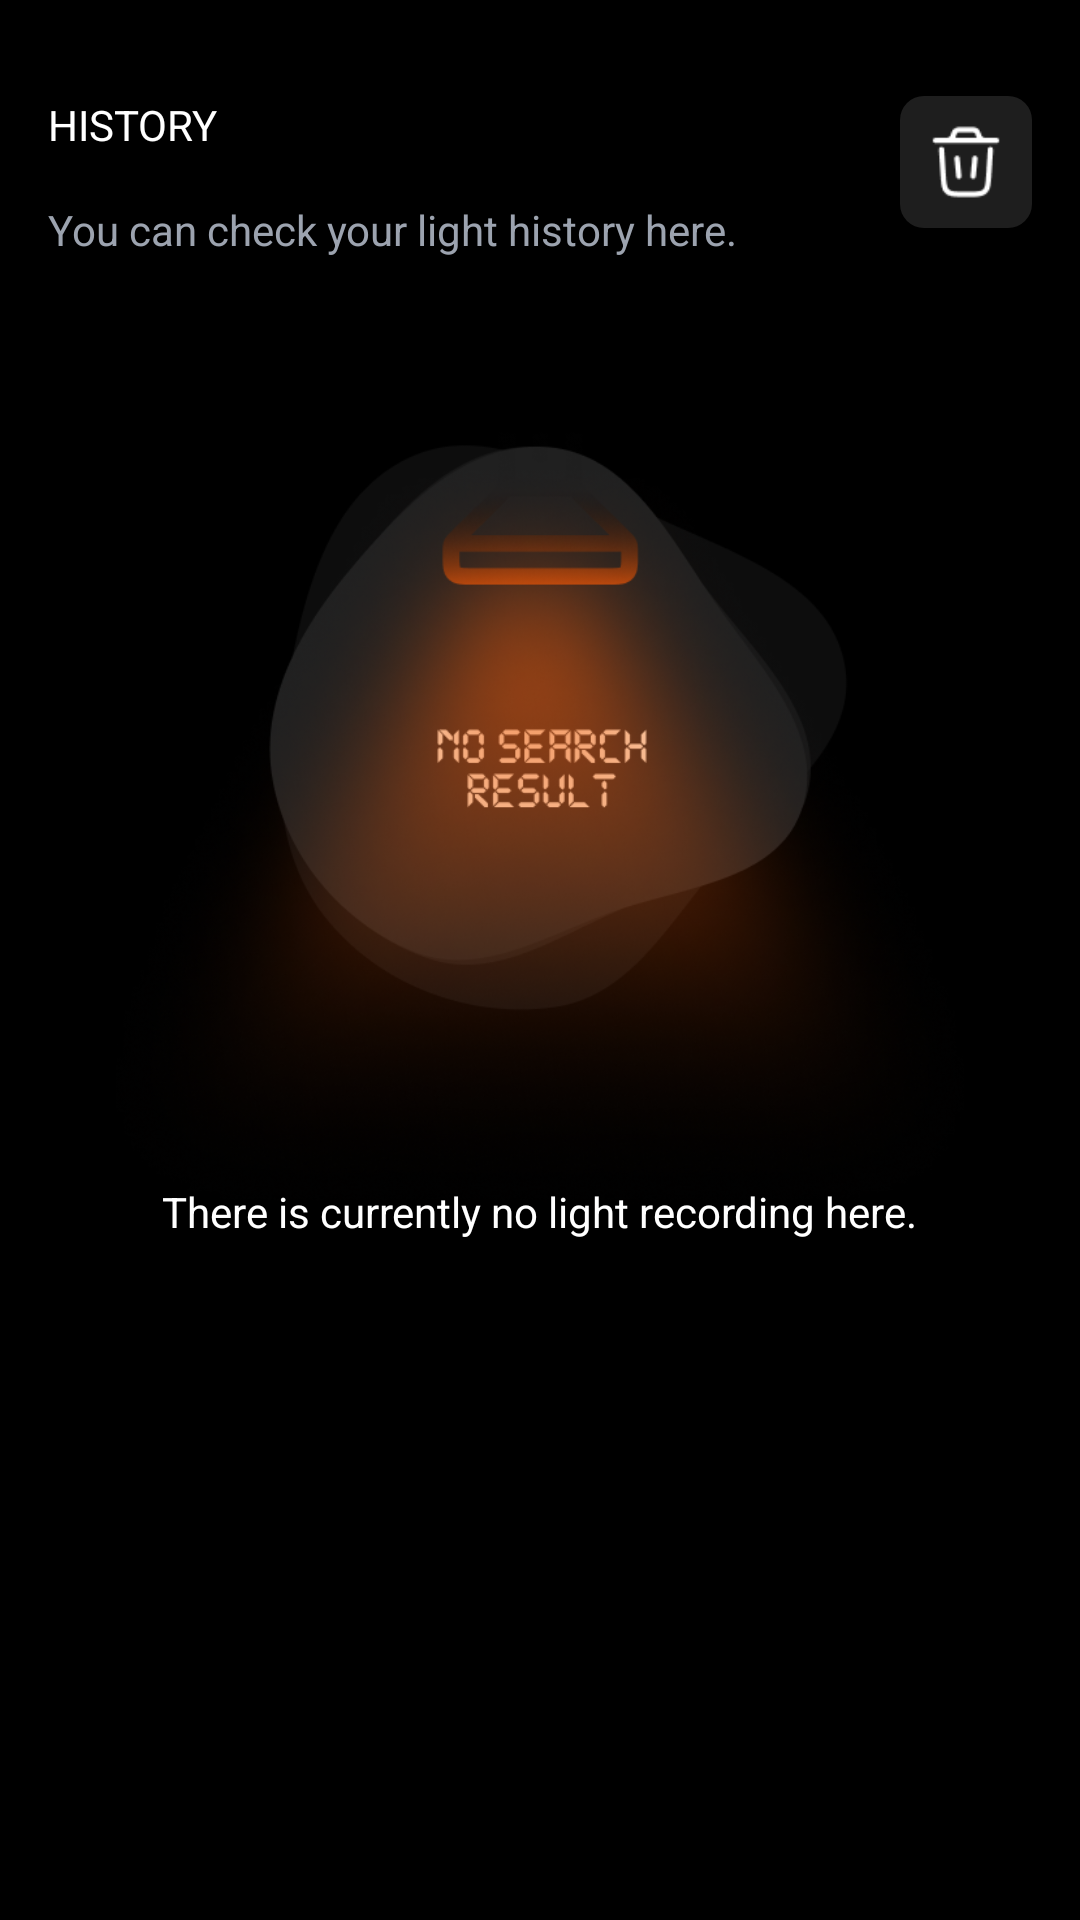

Where icons sit on this 1080 x 1920 app screen, as (x1, y1, x2, y2):
delete: (900, 96, 1032, 228)
